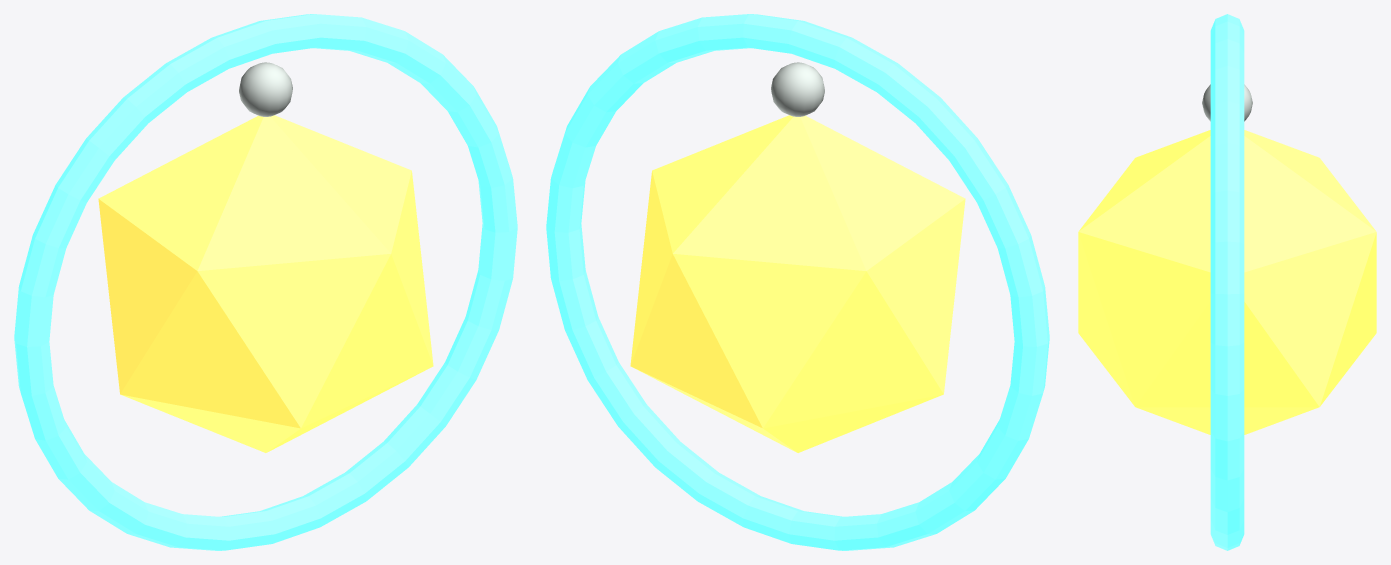
Rendered from shard.glb.
3 renders of one model, left to right at view 1: azimuth 30°, elevation 25°; view 2: azimuth 150°, elevation 25°; view 3: azimuth 270°, elevation 25°, orthographic. The views are drawn at different scales.
Visible parts, largest first — view 1: ShardCore, ShardOrbit, ShardSpark; view 2: ShardCore, ShardOrbit, ShardSpark; view 3: ShardCore, ShardOrbit, ShardSpark.
Boxes of the visible parts, left/top/right/bottom form: ShardCore: left=98, top=115, right=433, bottom=452; ShardOrbit: left=14, top=14, right=517, bottom=550; ShardSpark: left=239, top=62, right=292, bottom=116; ShardCore: left=630, top=115, right=965, bottom=452; ShardOrbit: left=546, top=14, right=1049, bottom=550; ShardSpark: left=771, top=62, right=824, bottom=116; ShardCore: left=1078, top=130, right=1376, bottom=434; ShardOrbit: left=1210, top=14, right=1244, bottom=550; ShardSpark: left=1202, top=84, right=1252, bottom=121.
Size of the model in its own units: 1.9 by 1.9 by 1.05.
